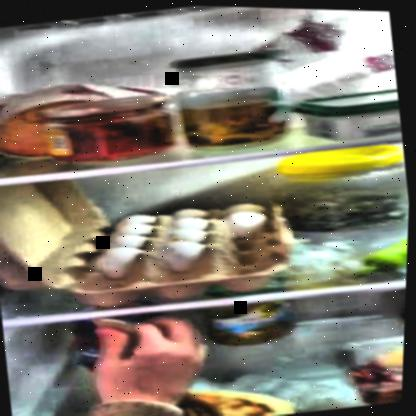eggs: (103, 194, 271, 279)
green_chillies: (347, 234, 408, 281)
olives: (284, 175, 410, 235)
